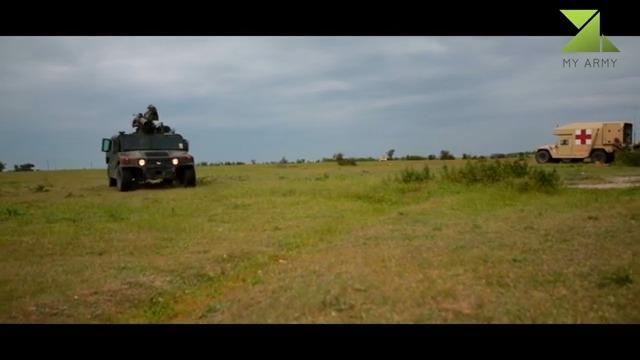MIL_HMMWV: (102, 129, 196, 193), (536, 123, 633, 165)
